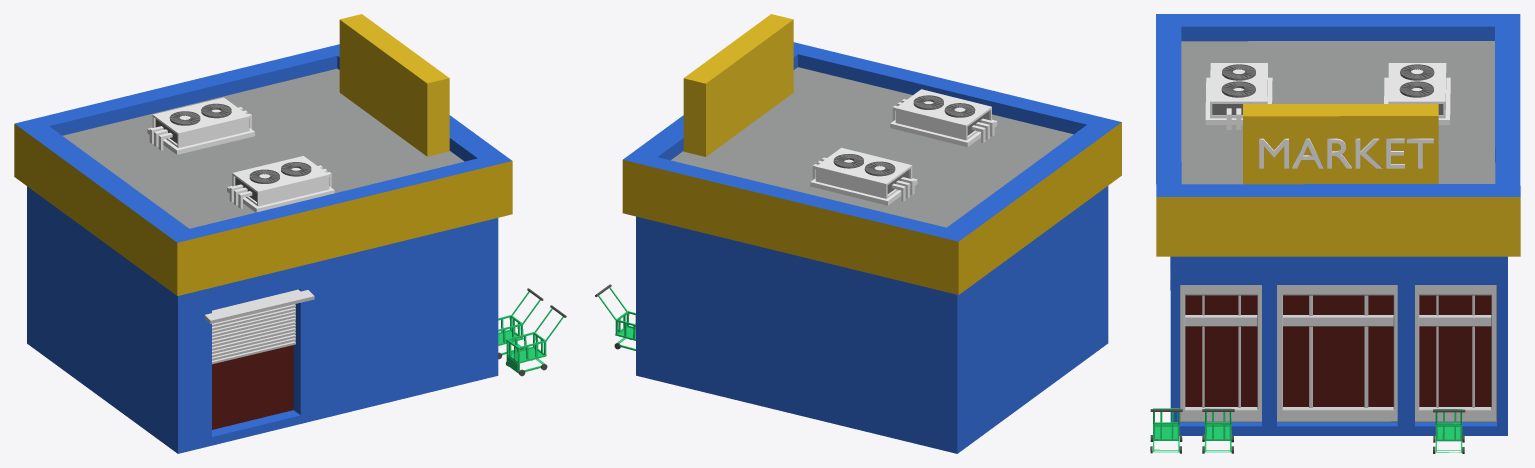
File: Market_tran.glb
3 renders of one model, left to right at view 1: azimuth 30°, elevation 25°; view 2: azimuth 150°, elevation 25°; view 3: azimuth 270°, elevation 25°, orthographic. The views are drawn at different scales.
Visible parts, largest first — view 1: Main_Building.001, Cube.13766, Cube.13765, Shutter_4.011, Shutter_4.012; view 2: Main_Building.001, Cube.13766, Cube.13765; view 3: Main_Building.001, London Police Service Headquarters, 601 Dundas St, London, . (×3), Cube.13765, Cube.13766, Text.046.
Boxes of the visible parts, left/top/right/bottom form: Main_Building.001: left=14, top=14, right=512, bottom=453; Cube.13766: left=147, top=97, right=254, bottom=154; Cube.13765: left=227, top=156, right=334, bottom=212; Shutter_4.011: left=212, top=304, right=295, bottom=364; Shutter_4.012: left=204, top=289, right=314, bottom=323; Main_Building.001: left=622, top=14, right=1121, bottom=453; Cube.13766: left=810, top=147, right=917, bottom=205; Cube.13765: left=890, top=89, right=997, bottom=147; Main_Building.001: left=1156, top=14, right=1520, bottom=435; London Police Service Headquarters, 601 Dundas St, London, . (×3): left=1180, top=285, right=1496, bottom=422; Cube.13765: left=1205, top=63, right=1272, bottom=129; Cube.13766: left=1384, top=63, right=1450, bottom=124; Text.046: left=1259, top=138, right=1433, bottom=168.
Size of the model in its own units: 0.2849 by 0.1954 by 0.2108.
